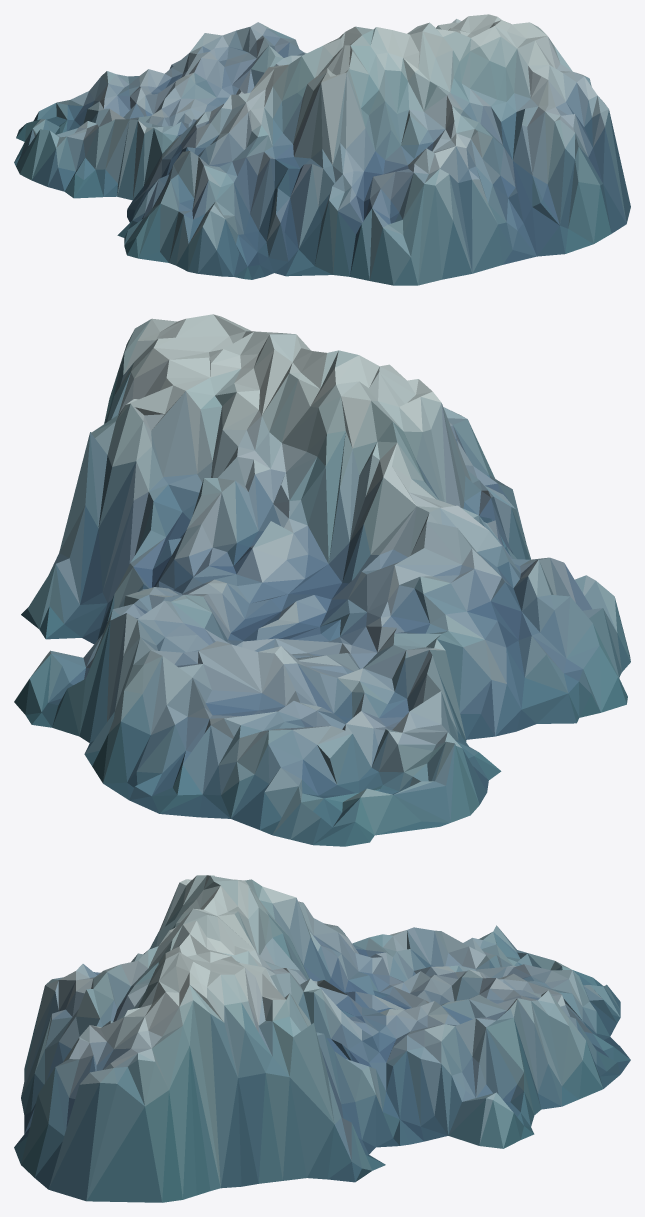
Rendered from Iceberg_ChunkB.fbx.
3 views of the same model, one above another, from view 1: azimuth 30°, elevation 25°; view 2: azimuth 150°, elevation 25°; view 3: azimuth 270°, elevation 25° (orthographic). The views are drawn at different scales.
Visible parts, largest first — view 1: Iceberg_ChunkB; view 2: Iceberg_ChunkB; view 3: Iceberg_ChunkB.
Boxes of the visible parts, <box> form: Iceberg_ChunkB: <box>14,14,630,285</box>; Iceberg_ChunkB: <box>14,314,630,846</box>; Iceberg_ChunkB: <box>14,875,630,1202</box>.
Bounding box in the file's own units: 8150 × 3348 × 8950.
